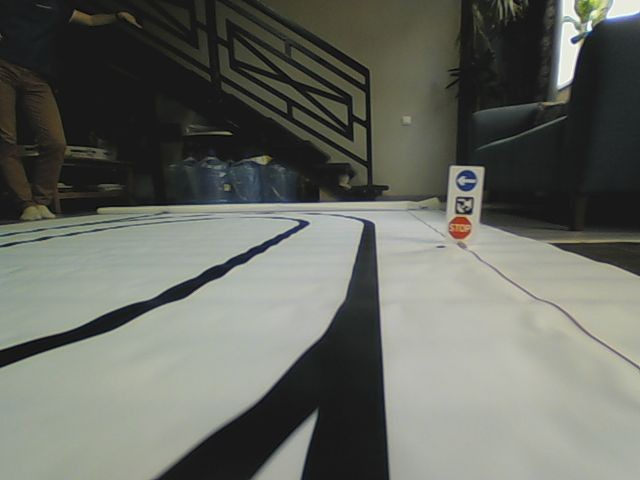Stop: (446, 215, 473, 241)
